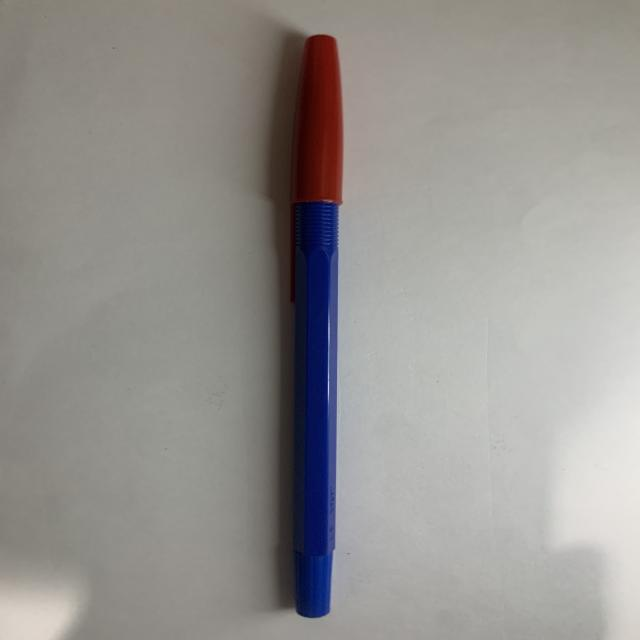Pulpen: (265, 32, 366, 630)
